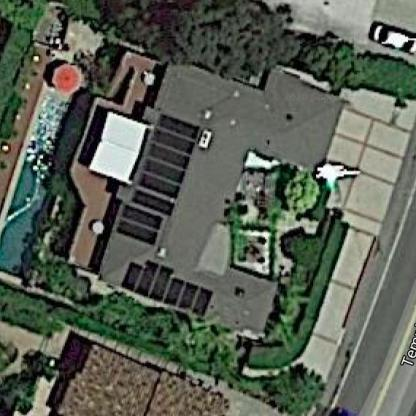car: (369, 10, 416, 54)
solar_panel: (120, 95, 202, 263), (113, 253, 224, 319)
swimming_pool: (1, 88, 95, 283)
